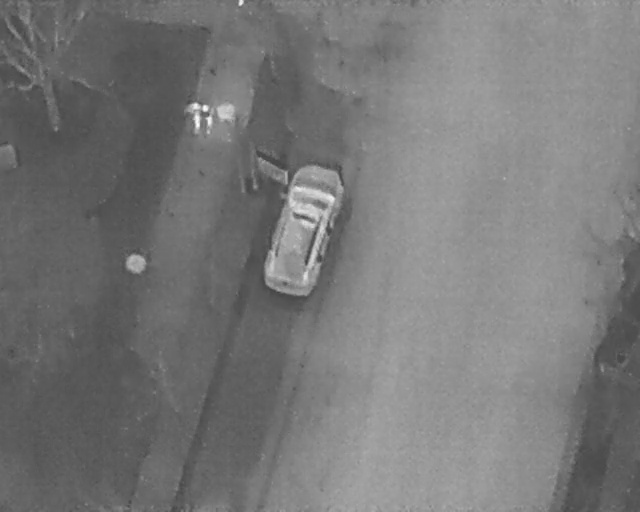Car: (255, 158, 352, 302)
Person: (186, 100, 202, 134), (202, 101, 212, 134)
